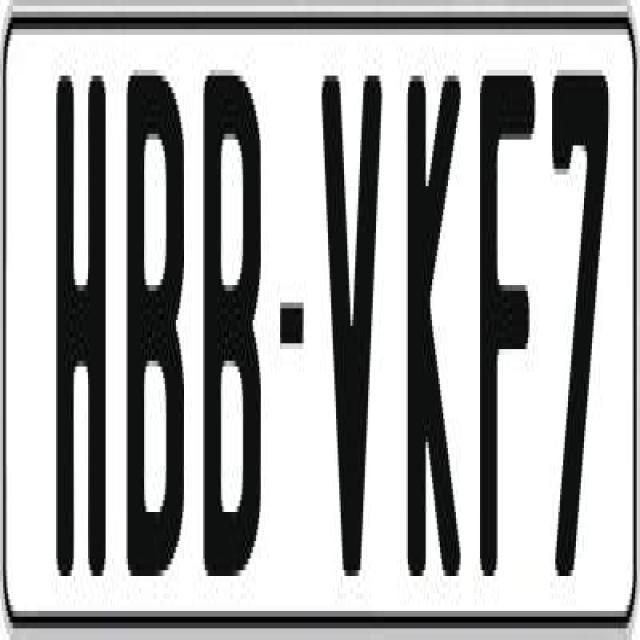7: (547, 70, 608, 600)
B: (124, 58, 190, 576), (202, 76, 268, 594)
F: (480, 64, 541, 588)
H: (55, 58, 112, 559)
K: (406, 70, 469, 606)
V: (320, 76, 390, 594)
